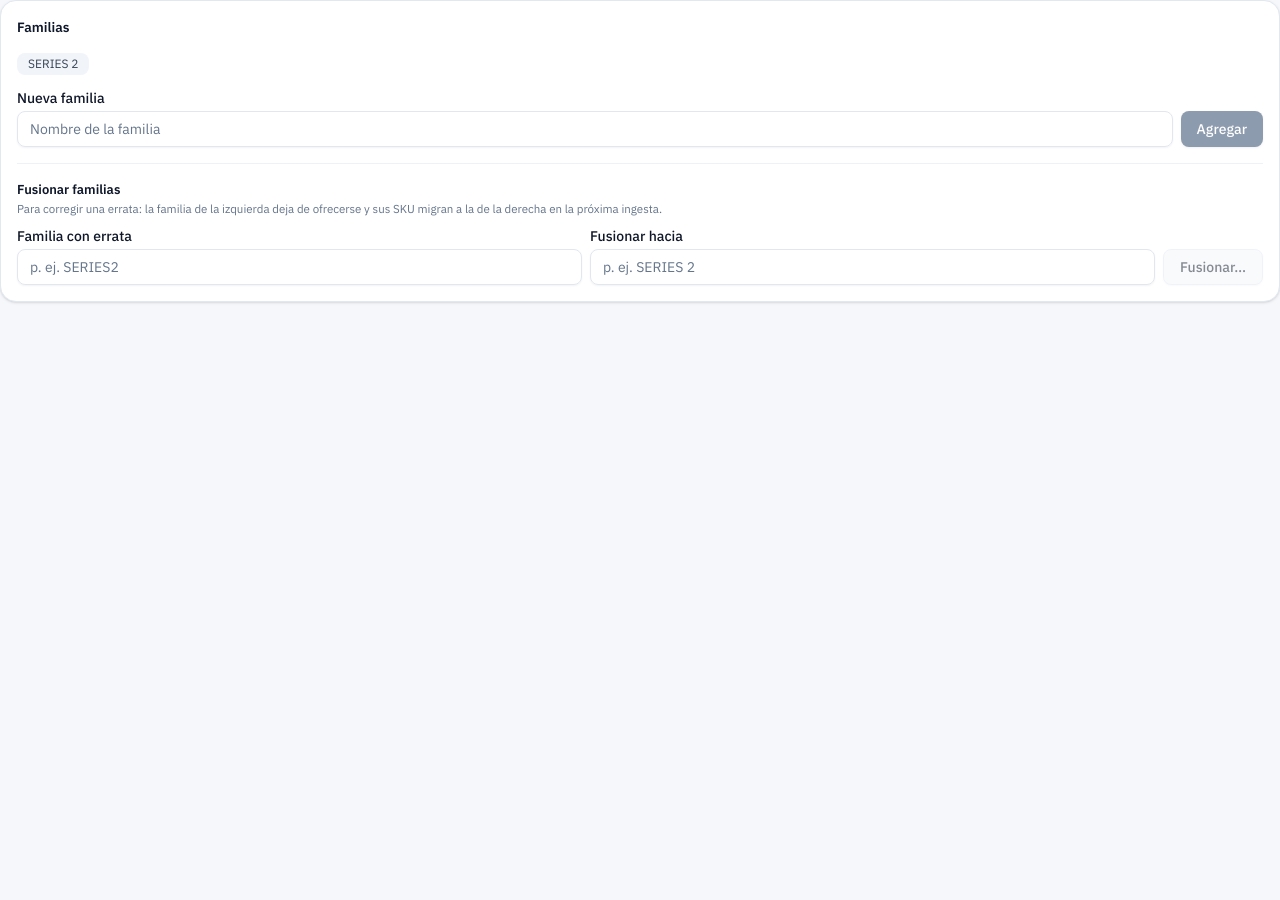
Test: ConfigFamilias — Fusionar familias (C, [MVP-2]) › sin compuestos afectados: lo dice explícitamente — el silencio no vale
Expected: the text "SERIES 2" is shown, [17,53,90,75]
In the field labelled "Familia con errata": (300, 267) [17,249,582,285], type "PIVOTLOCK"
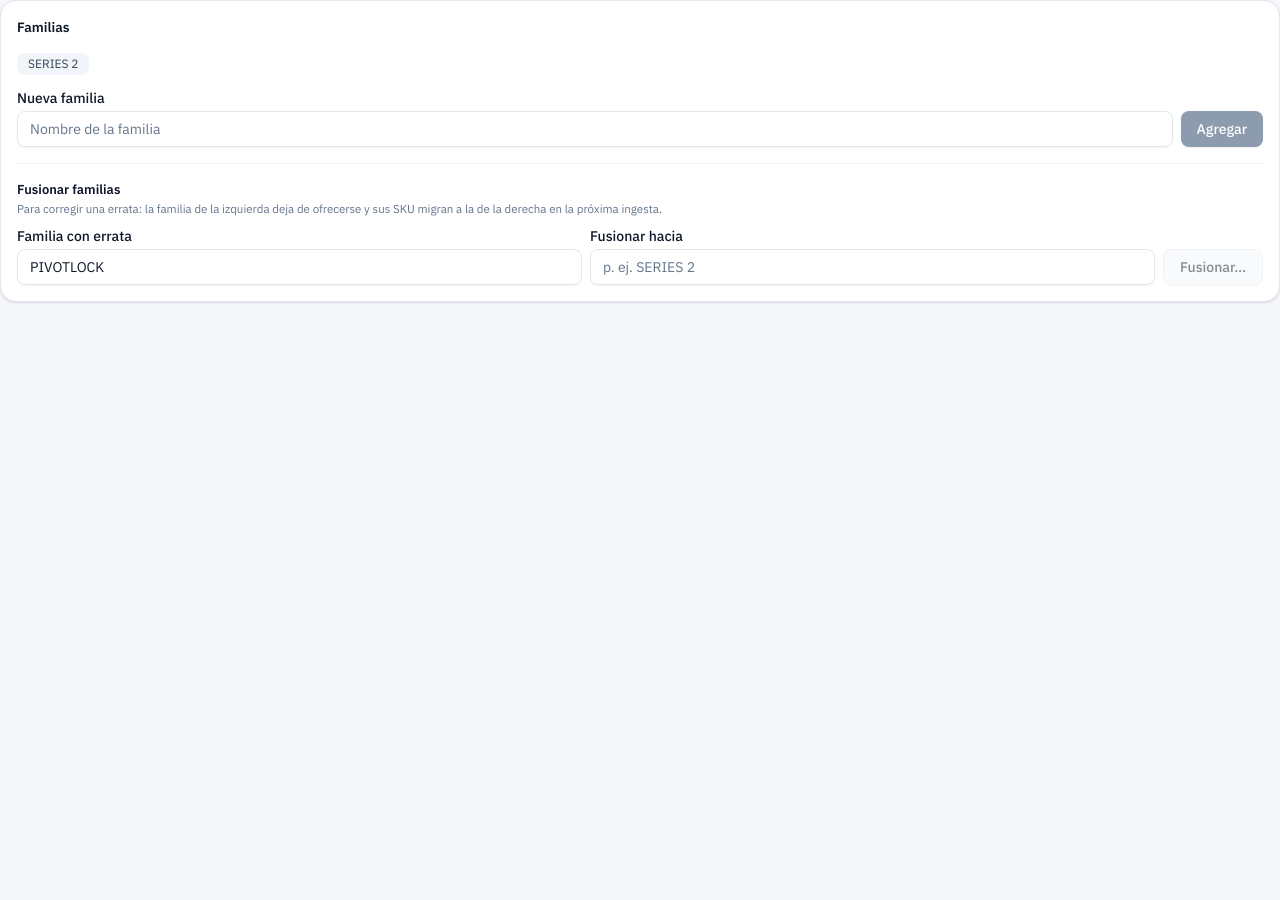
In the field labelled "Fusionar hacia": (872, 267) [590,249,1155,285], type "PIVOT LOCK"
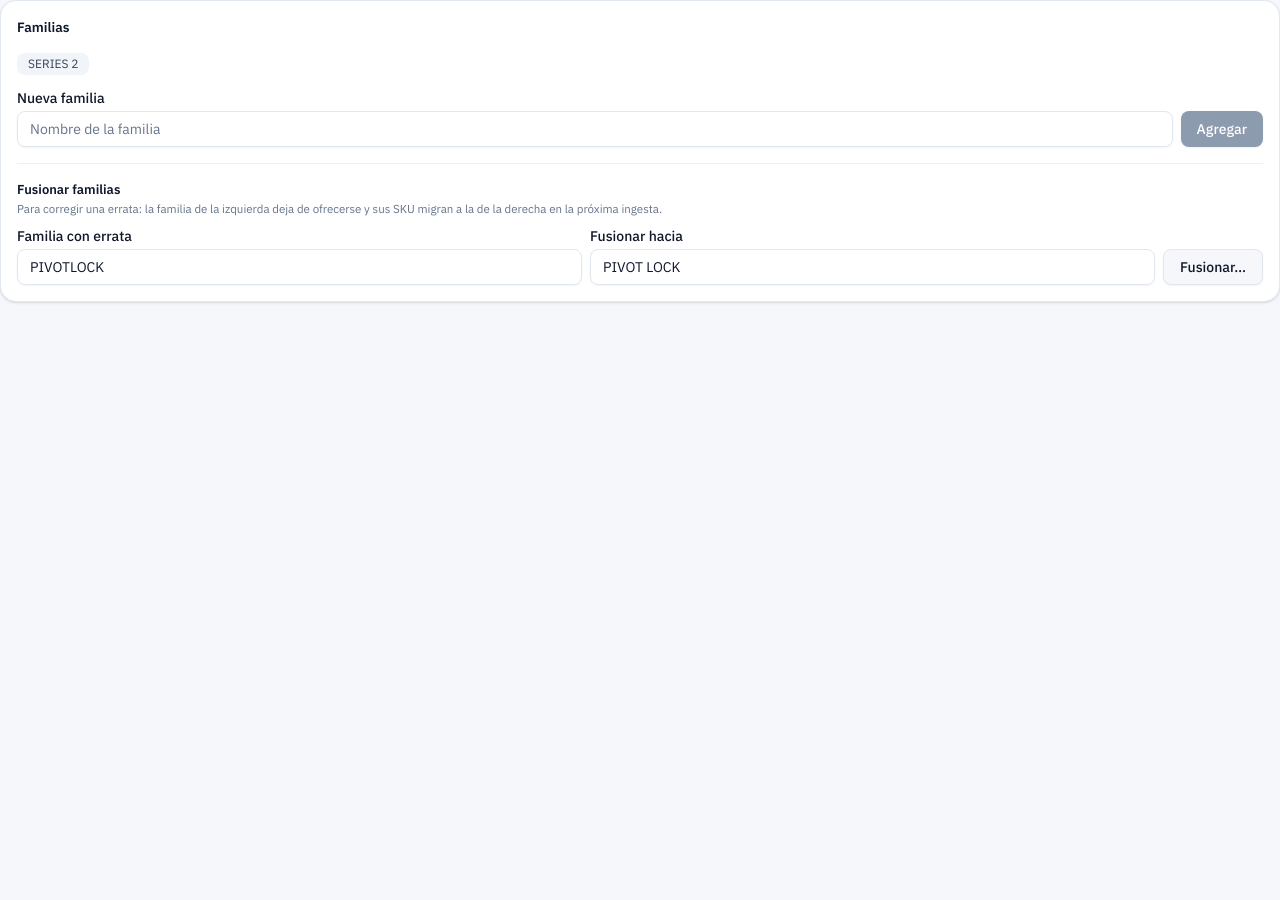
Click the button "Fusionar…": (1213, 267) [1163,249,1263,285]
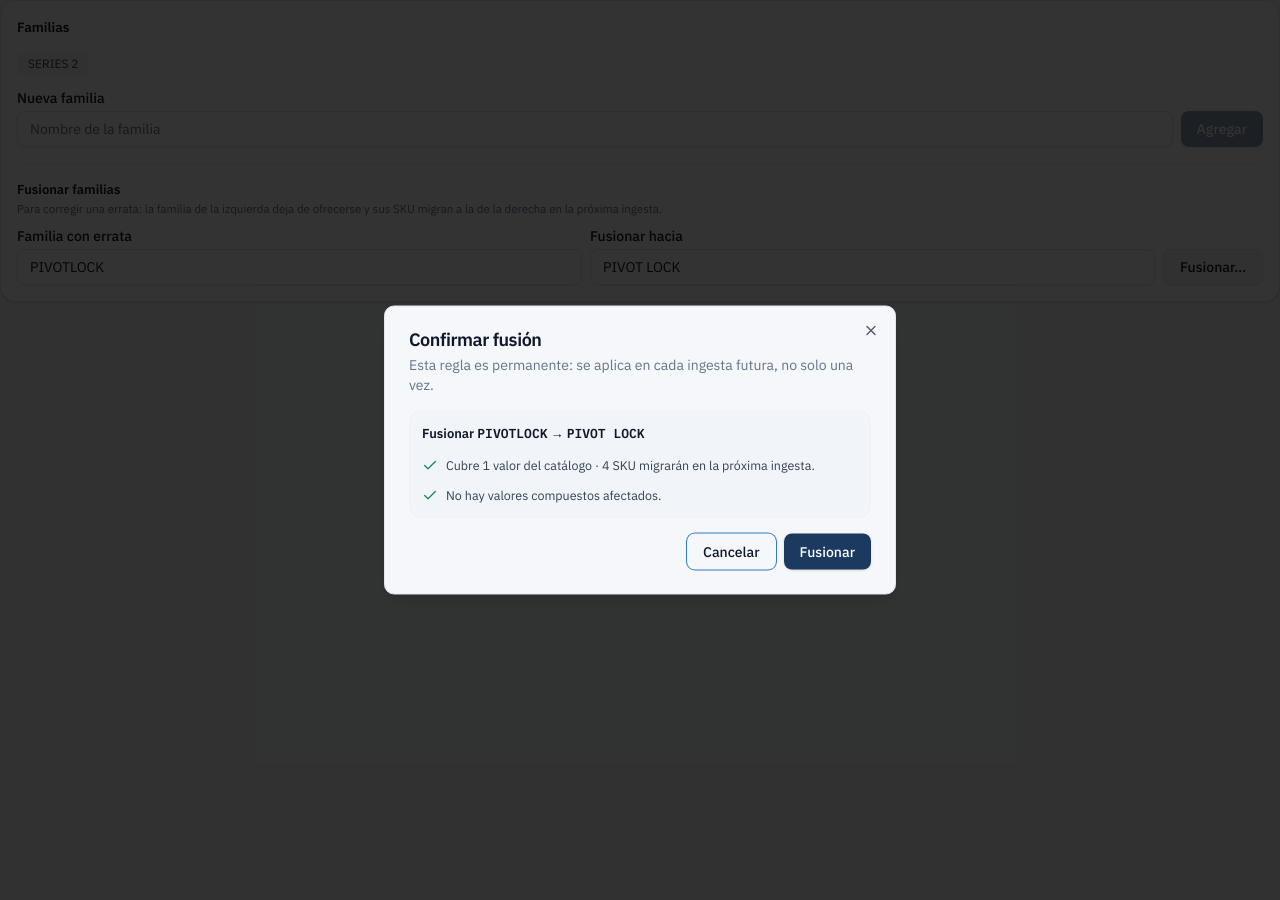
Now the text "No hay valores compuestos afectados." is shown, box [446,486,662,505]
